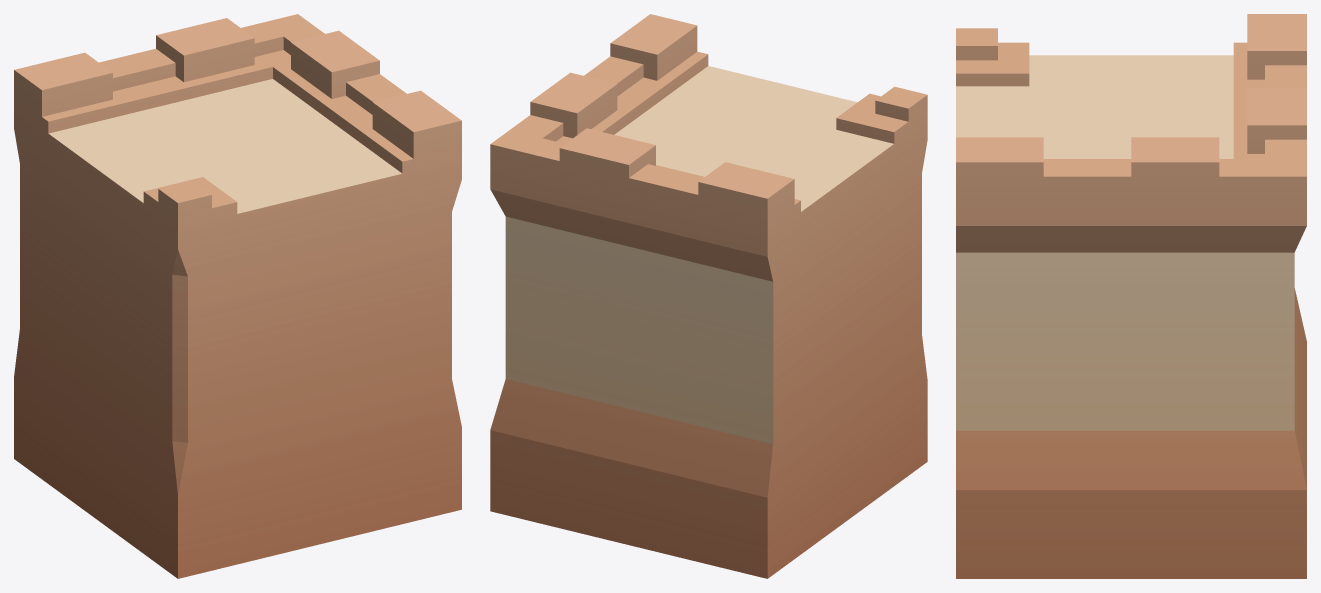
File: wall-corner.obj
The picture shows the model from 3 angles, left to right: view 1: azimuth 30°, elevation 25°; view 2: azimuth 150°, elevation 25°; view 3: azimuth 270°, elevation 25°; orthographic projection. The views are drawn at different scales.
Visible parts, largest first — view 1: wall-corner; view 2: wall-corner; view 3: wall-corner.
Boxes of the visible parts, box(x1,y1,x2,y2) form: wall-corner: box(14, 14, 461, 578); wall-corner: box(490, 14, 927, 578); wall-corner: box(956, 14, 1306, 578).
Size of the model in its own units: 1 by 1.31 by 1.
1 material, 1 textured.
